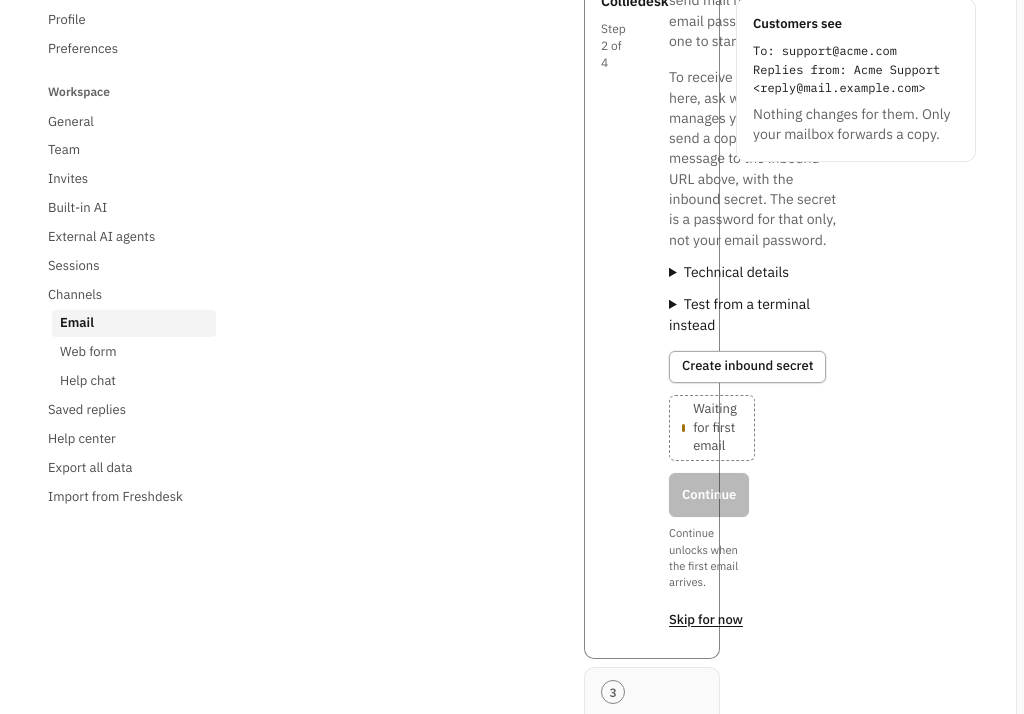
Test: a server without forwarding addresses opens Other / own server, where the inbound secret is created
The image size is (1024, 714).
(page scrolled)
Click the button "Create inbound secret": (748, 367) [669,351,826,383]
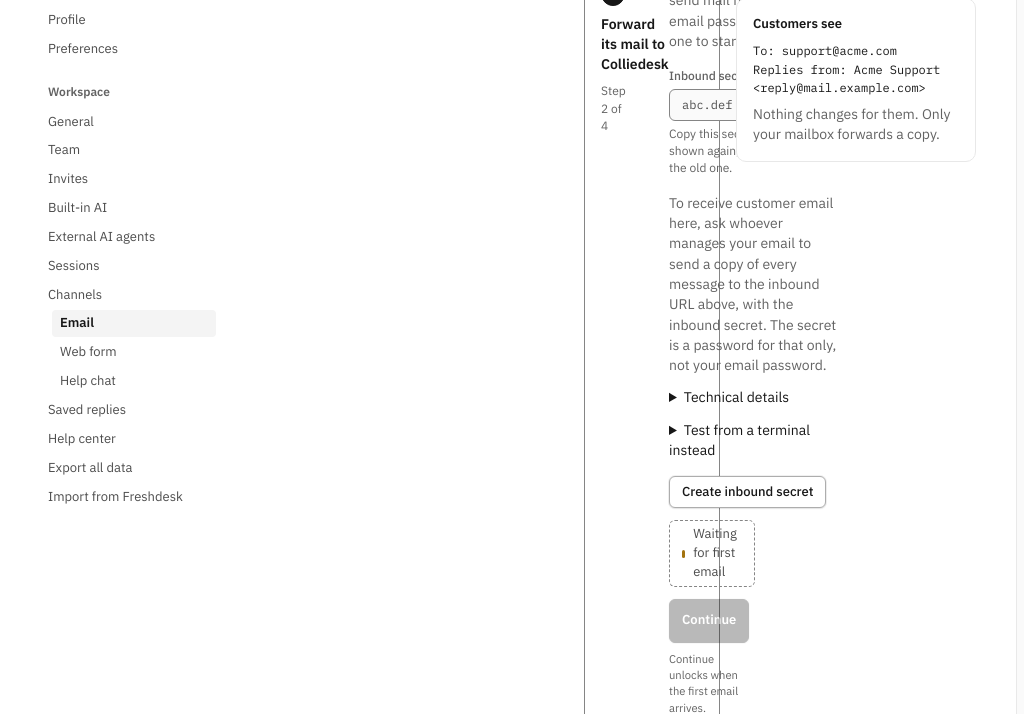
Result: the field labelled "Inbound secret" holds "abc.def" at [669,89,843,121]
